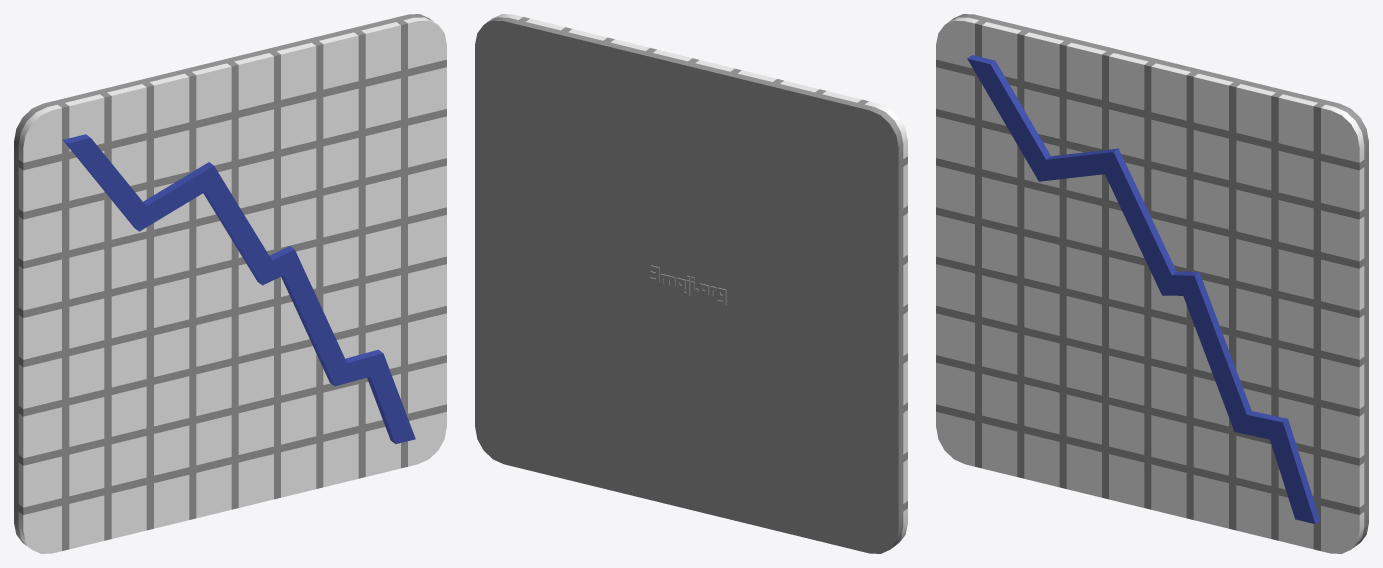
File: chart_decreasing.glb
3 renders of one model, left to right at view 1: azimuth 30°, elevation 25°; view 2: azimuth 150°, elevation 25°; view 3: azimuth 330°, elevation 25°, orthographic.
Parts seen in each view (by area): view 1: Plane.340; view 2: Plane.340; view 3: Plane.340.
Boxes of the visible parts, left/top/right/bottom form: Plane.340: left=14, top=14, right=446, bottom=553; Plane.340: left=475, top=14, right=907, bottom=553; Plane.340: left=936, top=14, right=1368, bottom=553.
Bounding box in the file's own units: 2.2 × 2.2 × 0.1503.
1 material, 1 textured.
